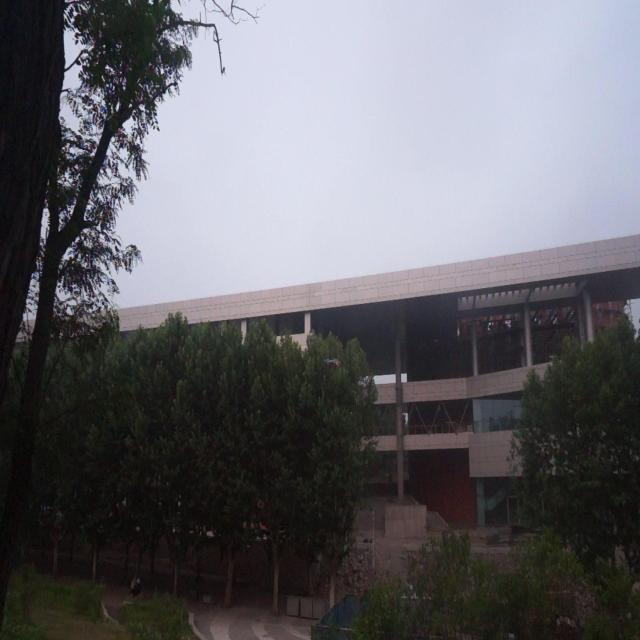drone: (322, 351, 340, 370)
